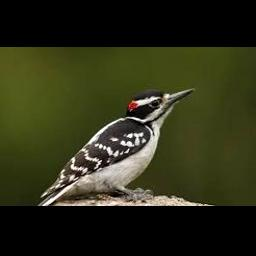Woodpecker: (36, 87, 195, 206)
